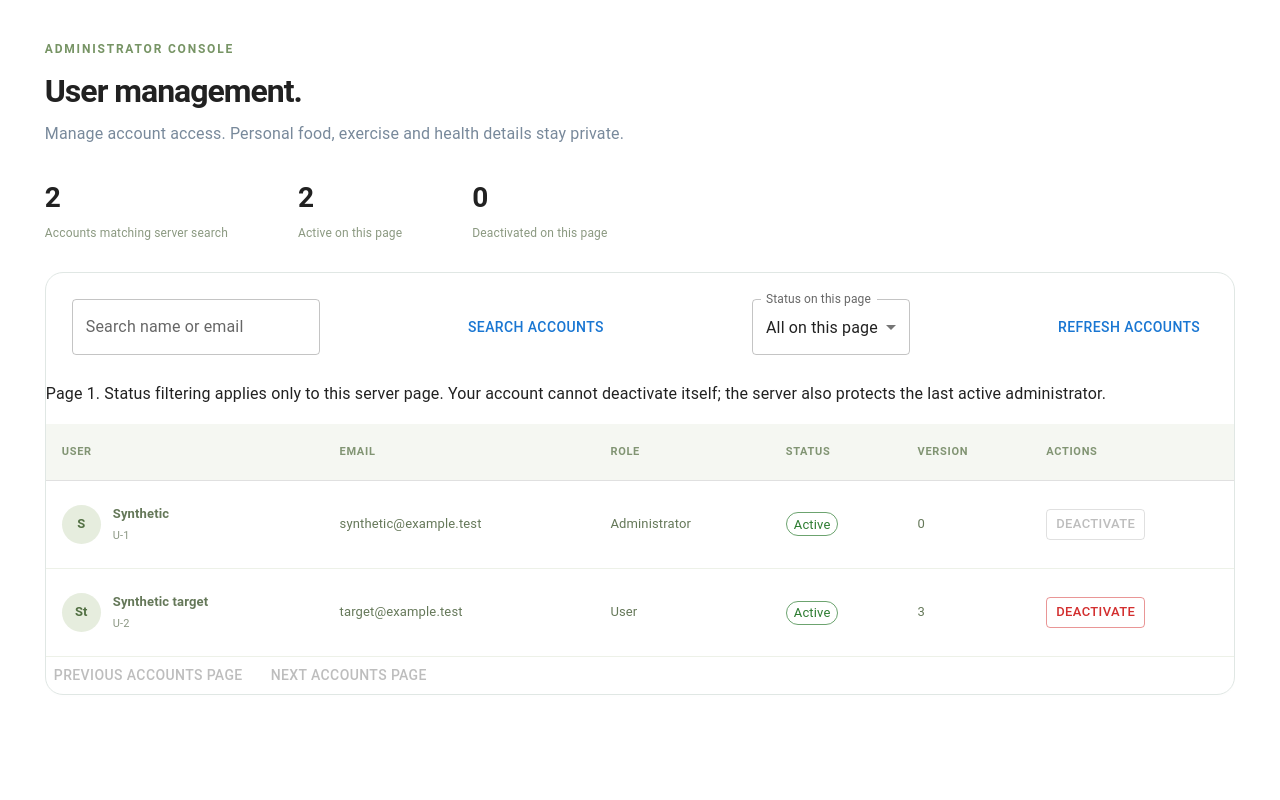
Test: F16 real account management controls › cancel sends no mutation and confirmation uses captured version once
Click the button with aria-label "Deactivate Synthetic target" at [1096, 613], box [1046,597,1145,628]
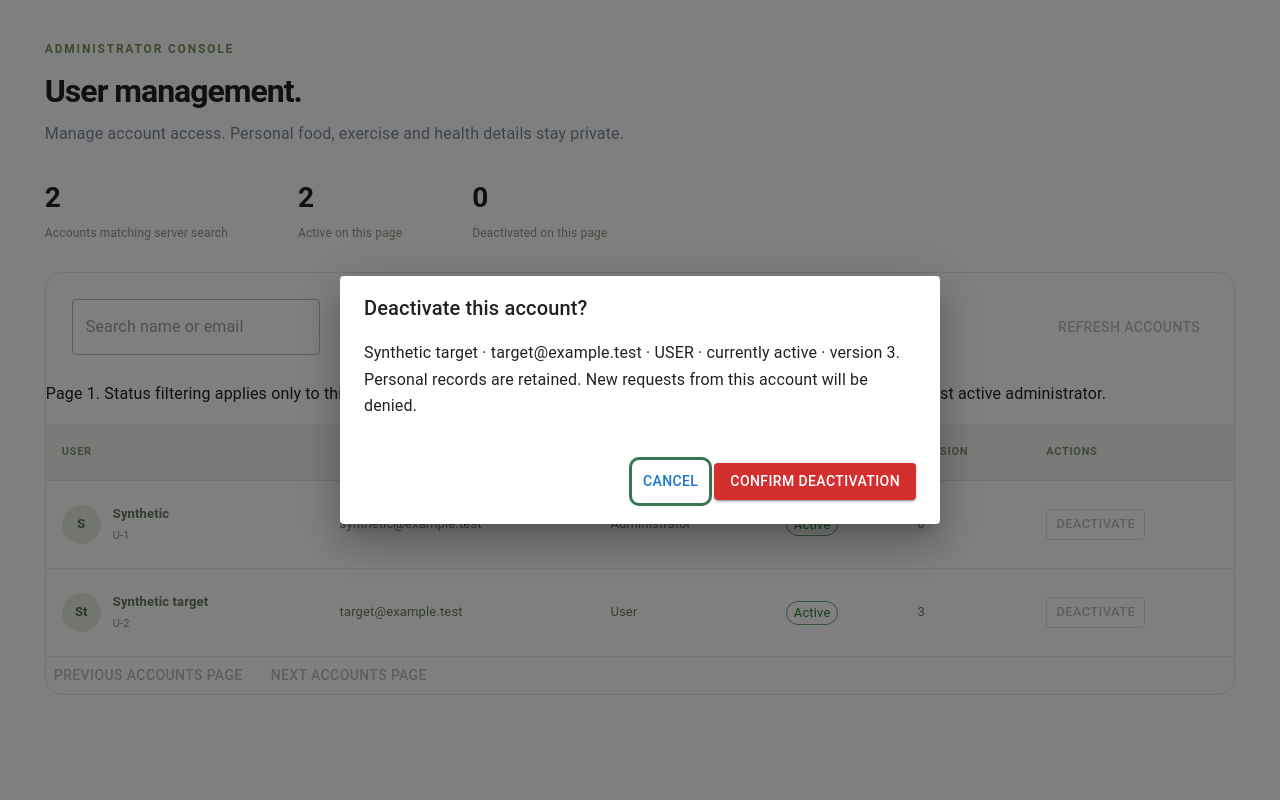
Click the button "Cancel" at [671, 482], box [635,463,706,500]
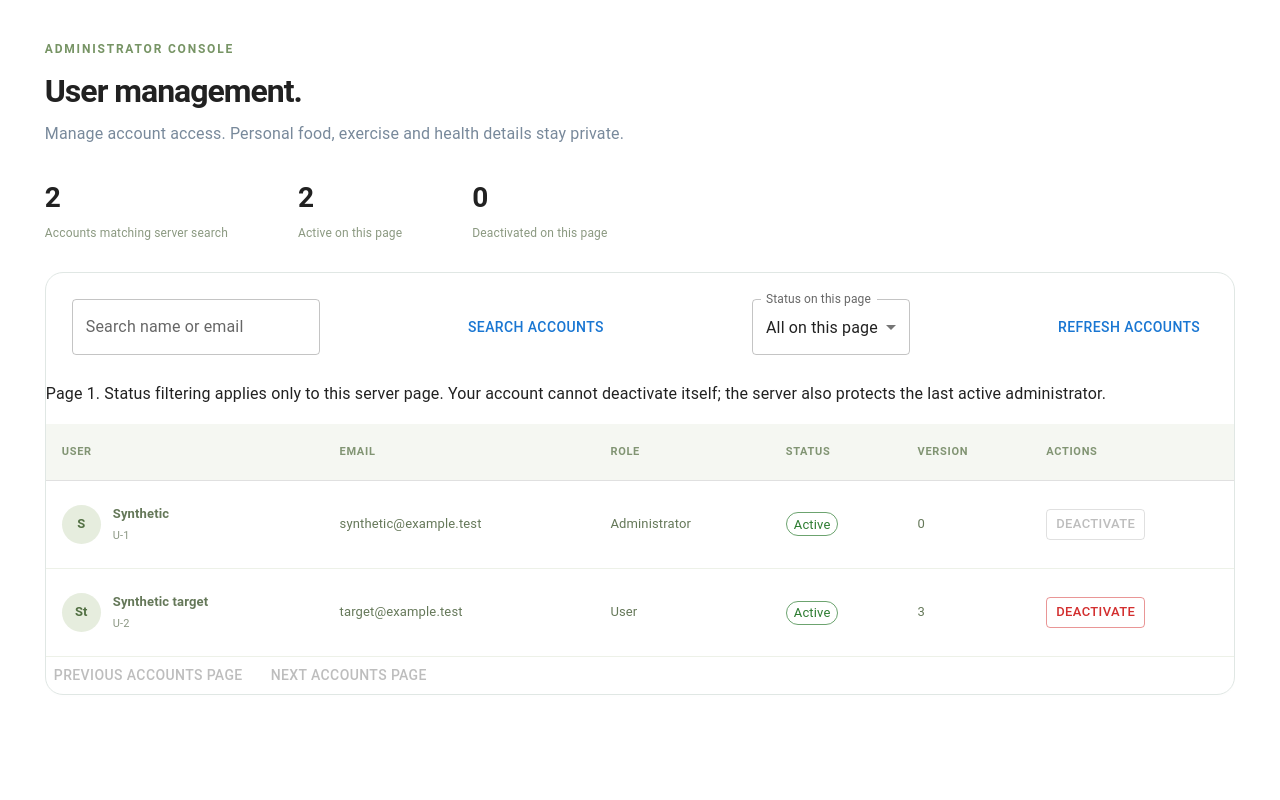
Check: the dialog is gone
Click the button with aria-label "Deactivate Synthetic target" at [1096, 613], box [1046,597,1145,628]
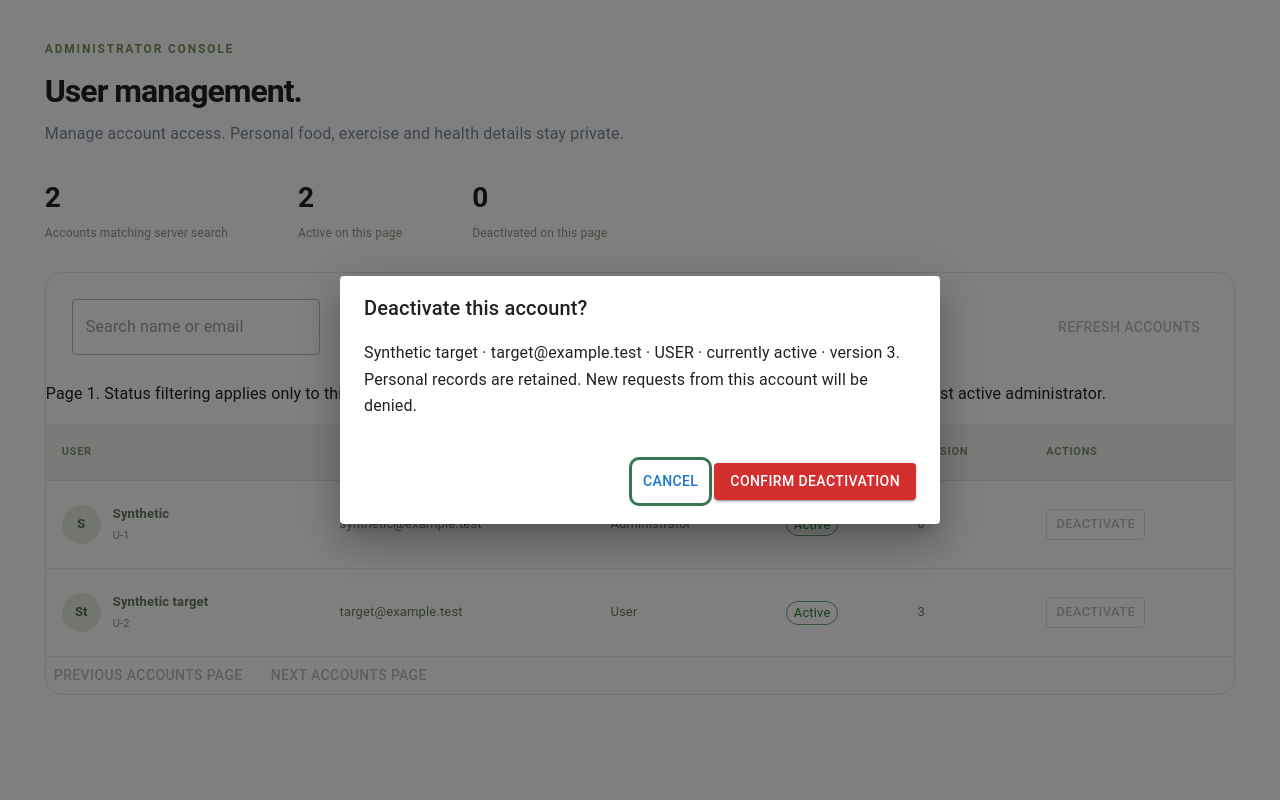
Click the button "Confirm deactivation" at [815, 482], box [714,463,916,500]
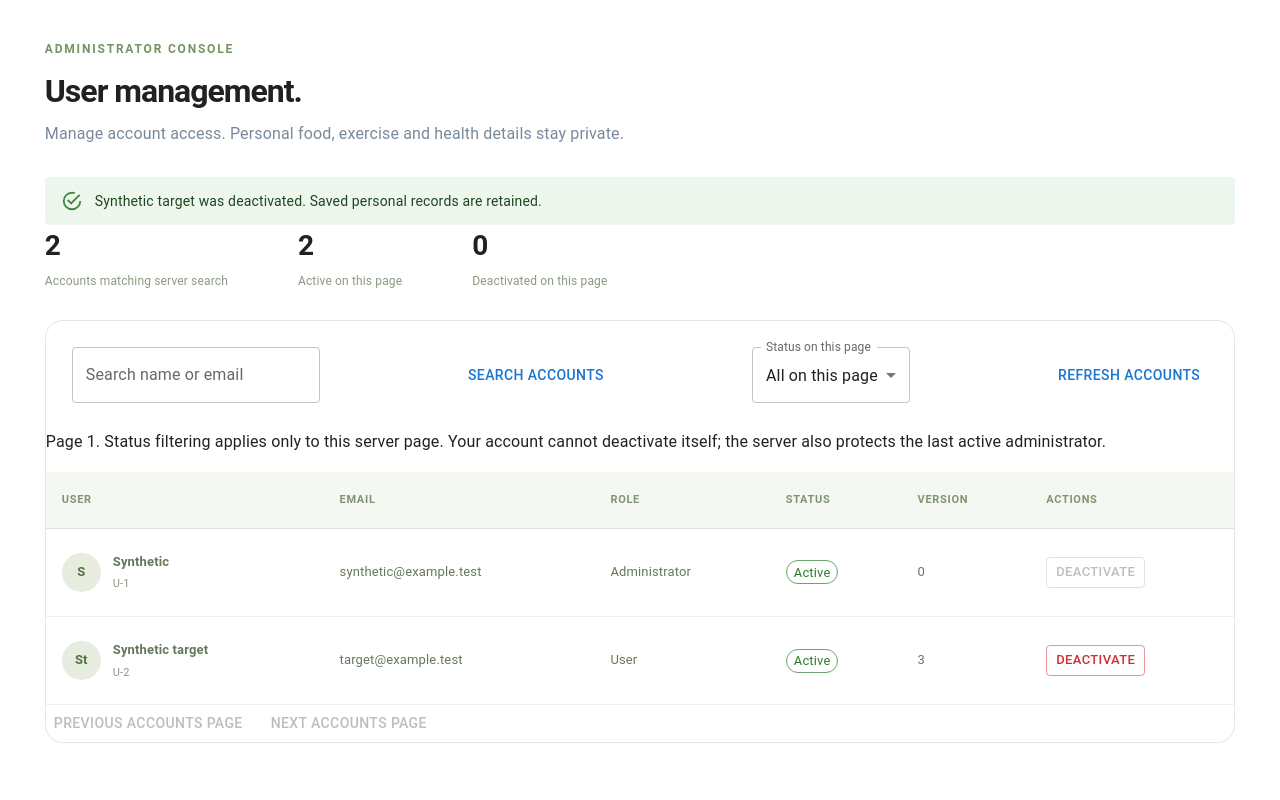
Check: the text "Synthetic target was deactivated. Saved personal records are retained." is shown, box [95,193,542,209]
